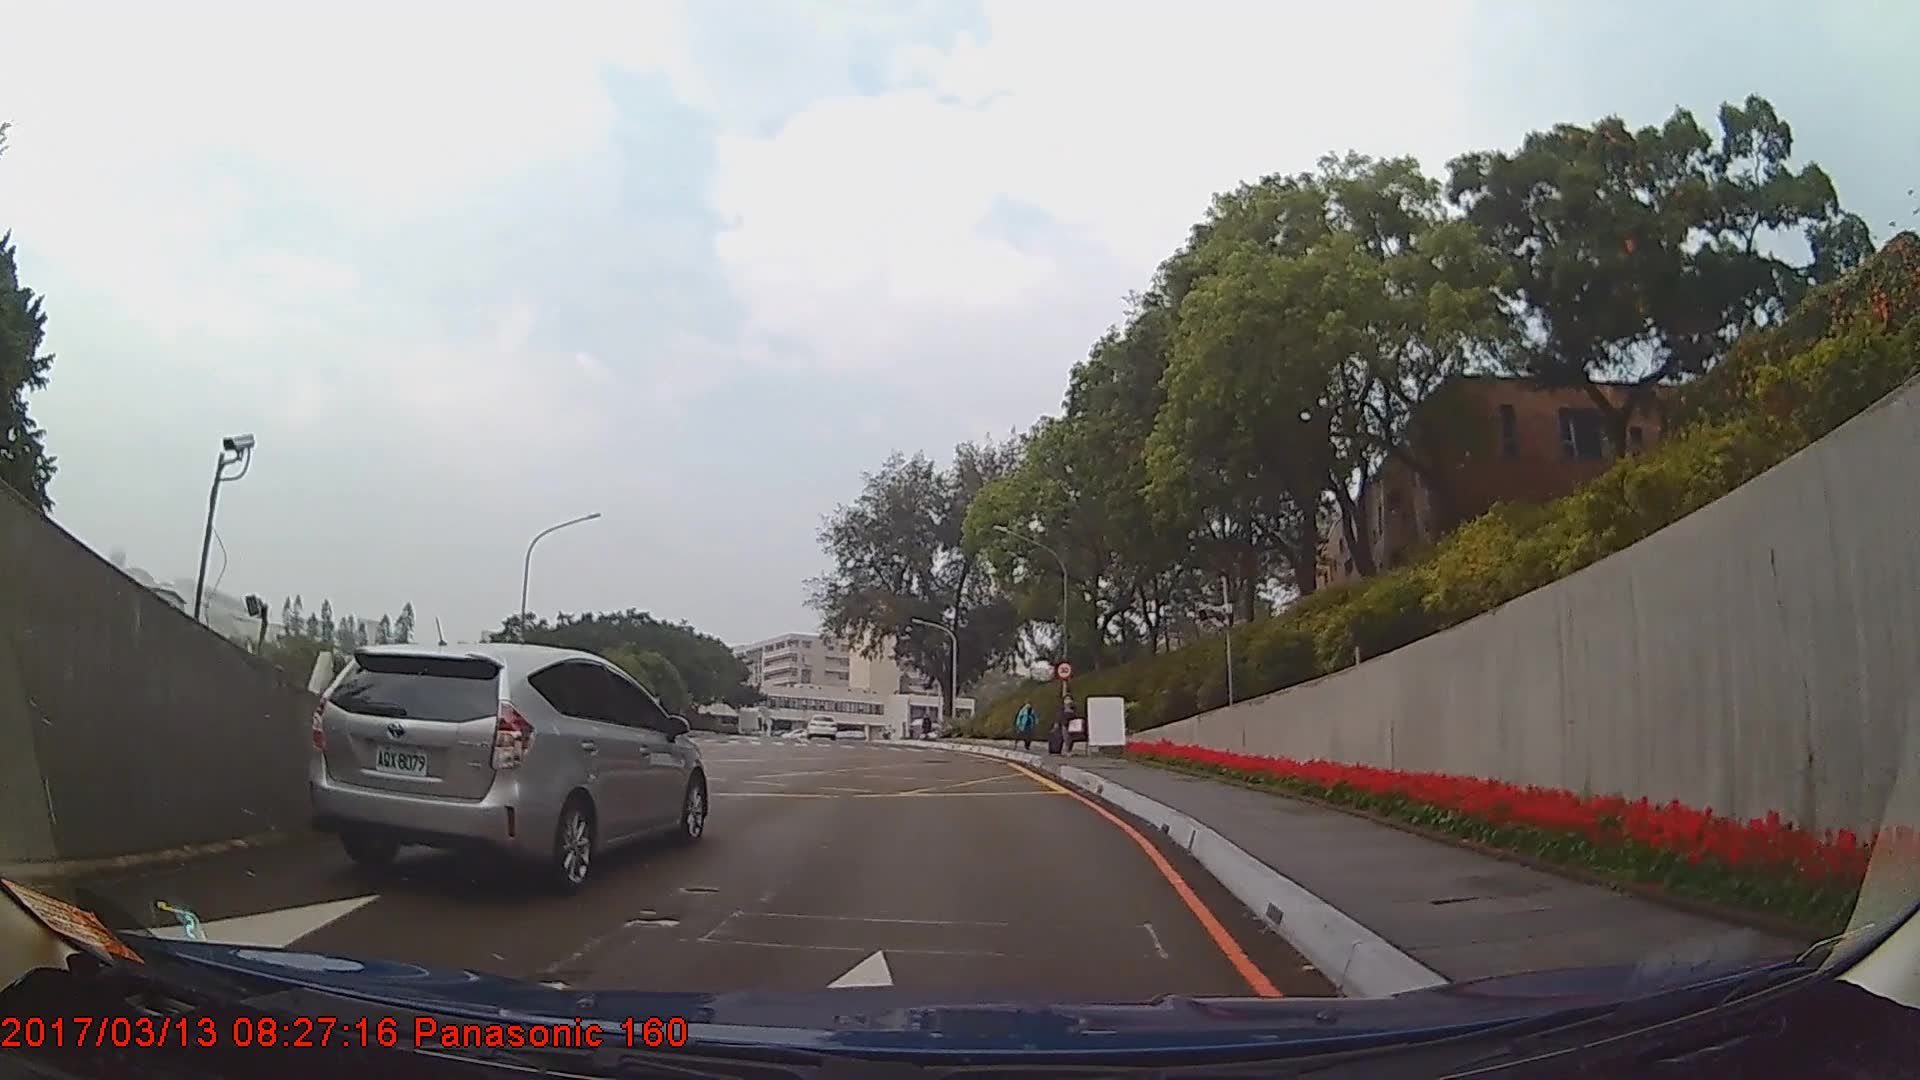pedestrian: (1049, 693, 1087, 759), (1017, 703, 1040, 756)
vehicle: (302, 643, 708, 891), (804, 712, 835, 739)
